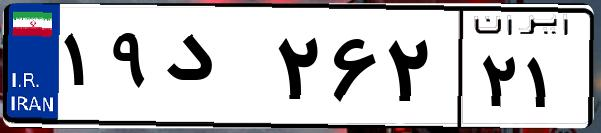1: (57, 26, 110, 100), (525, 38, 570, 115)
2: (270, 28, 330, 110), (385, 28, 445, 110), (475, 38, 525, 113)
6: (330, 28, 385, 110)
9: (110, 28, 158, 98)
د: (158, 20, 270, 120)
